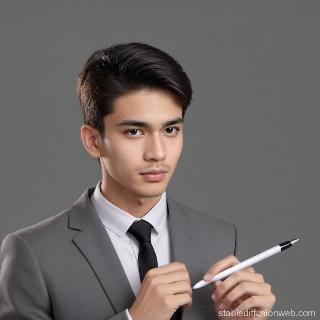person - v3 P: (0, 43, 274, 319)
